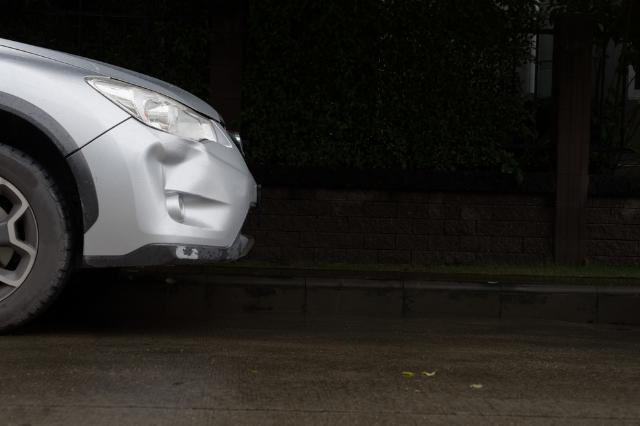dent: (145, 138, 209, 191)
scratch: (175, 244, 200, 261)
